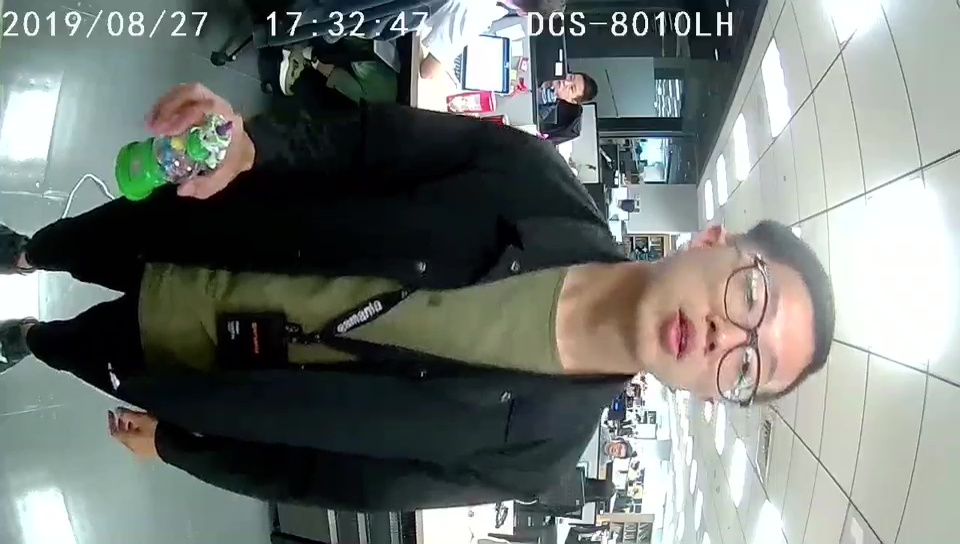buzz: (114, 116, 236, 203)
